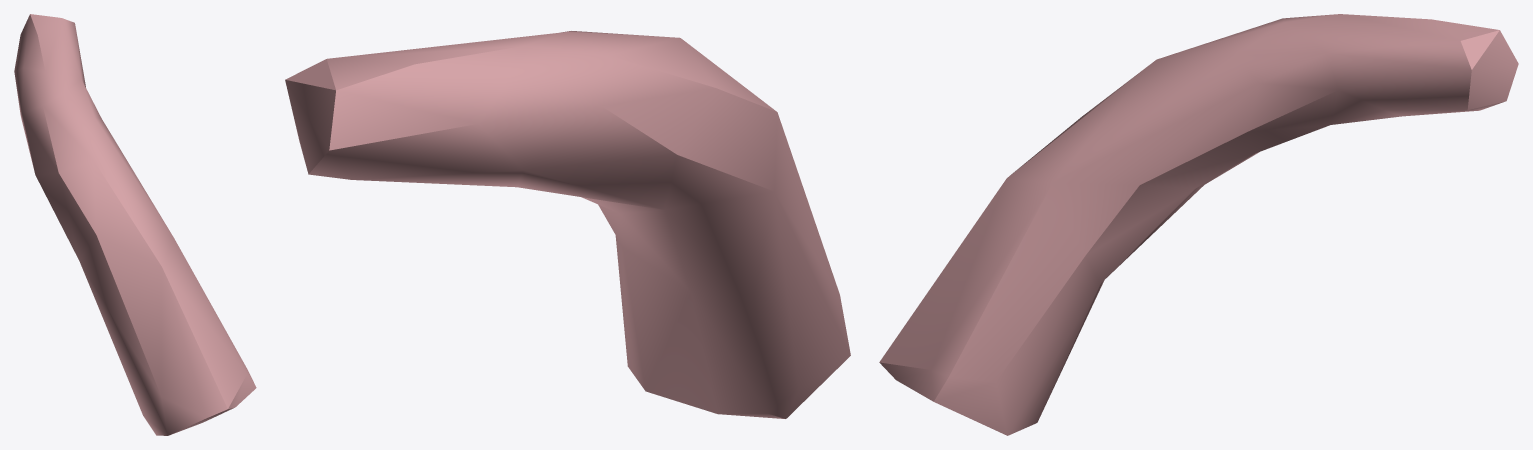
Rendered from fma68223_fj2463.glb.
The picture shows the model from 3 angles, left to right: view 1: azimuth 30°, elevation 25°; view 2: azimuth 150°, elevation 25°; view 3: azimuth 270°, elevation 25°; orthographic projection. The views are drawn at different scales.
Parts seen in each view (by area): view 1: FMA68223_FJ2463; view 2: FMA68223_FJ2463; view 3: FMA68223_FJ2463.
Part boxes in pixels (<box>): FMA68223_FJ2463: <box>14,14,256,435</box>; FMA68223_FJ2463: <box>285,31,850,418</box>; FMA68223_FJ2463: <box>879,14,1518,435</box>.
Bounding box in the file's own units: 0.00352 × 0.00791 × 0.0111.
